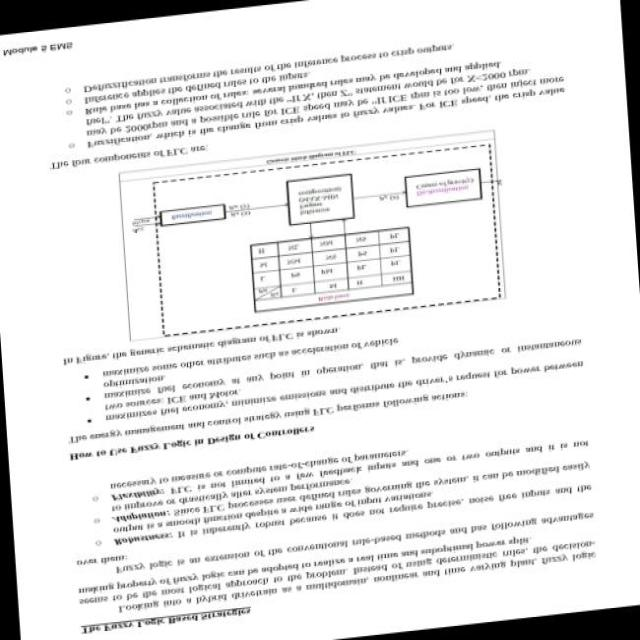Figure Detection - v3 Dataset Version2: (106, 122, 517, 348)
